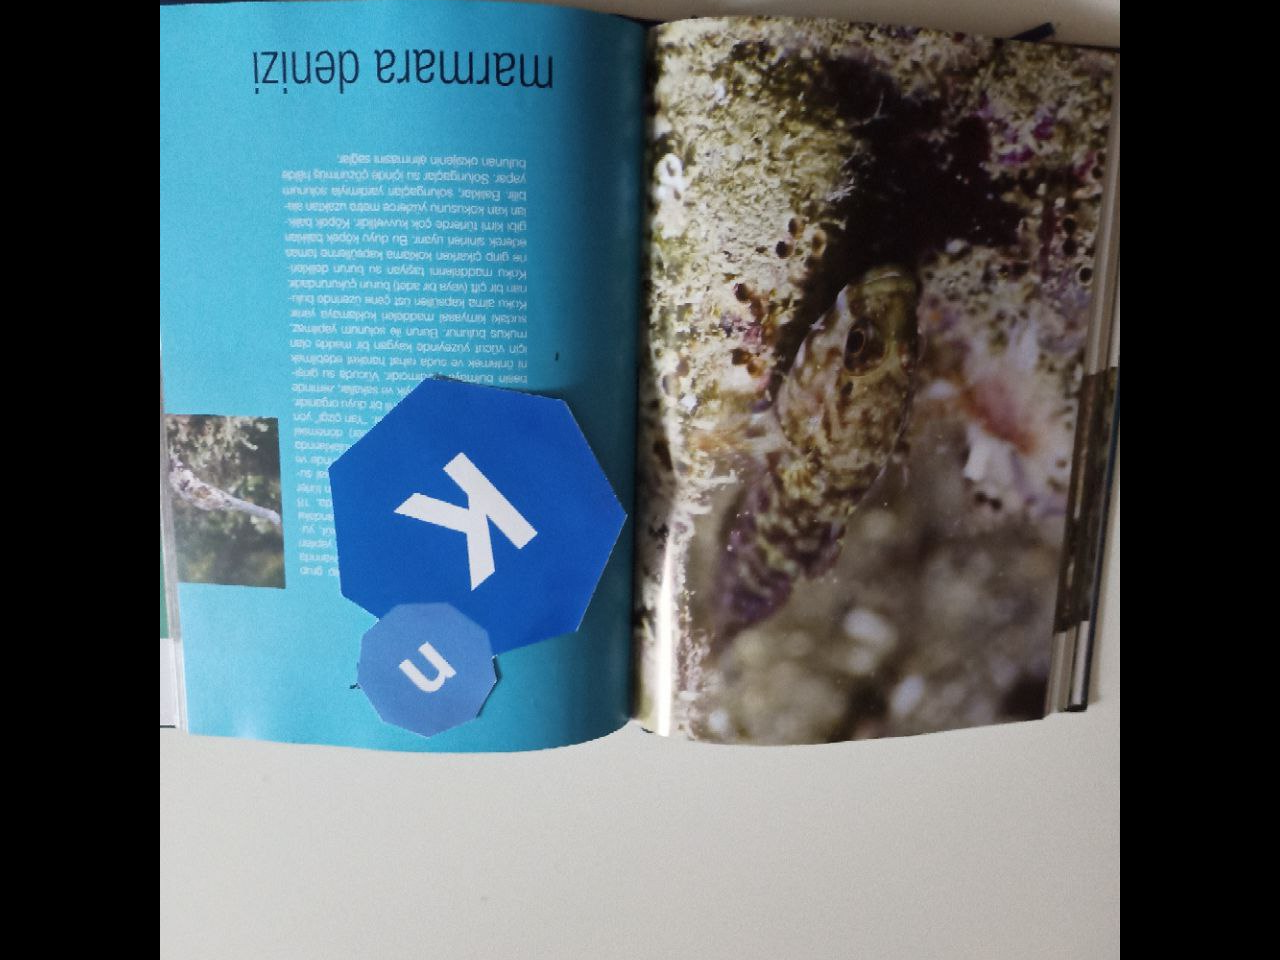knative: (324, 374, 627, 740)
